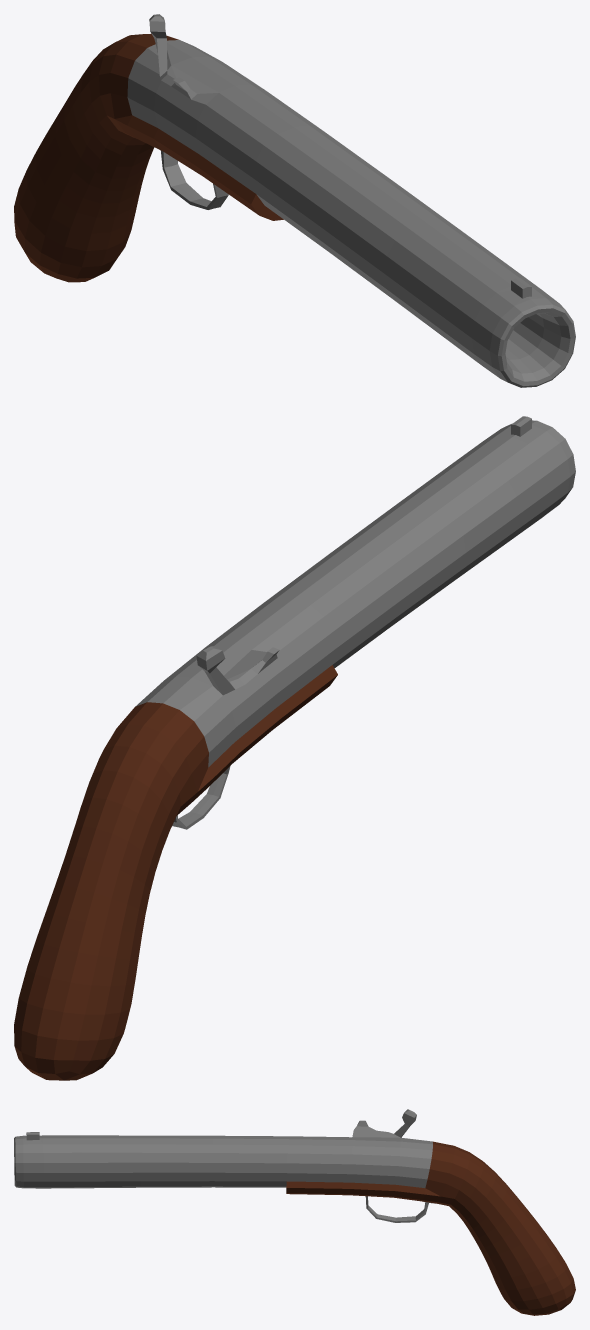
Rendered from pistol1.fbx.
The picture shows the model from 3 angles, top to bottom: view 1: azimuth 30°, elevation 25°; view 2: azimuth 150°, elevation 25°; view 3: azimuth 270°, elevation 25°; orthographic projection. The views are drawn at different scales.
Visible parts, largest first — view 1: Cube; view 2: Cube; view 3: Cube.
Boxes of the visible parts, left/top/right/bottom form: Cube: left=14, top=14, right=575, bottom=387; Cube: left=14, top=416, right=575, bottom=1080; Cube: left=14, top=1109, right=575, bottom=1315.
Bounding box in the file's own units: 9.04 × 31.33 × 81.75.
